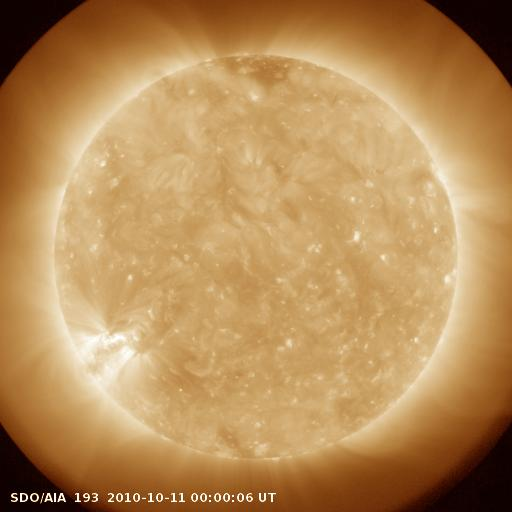coronal_hole: (218, 46, 302, 91)
